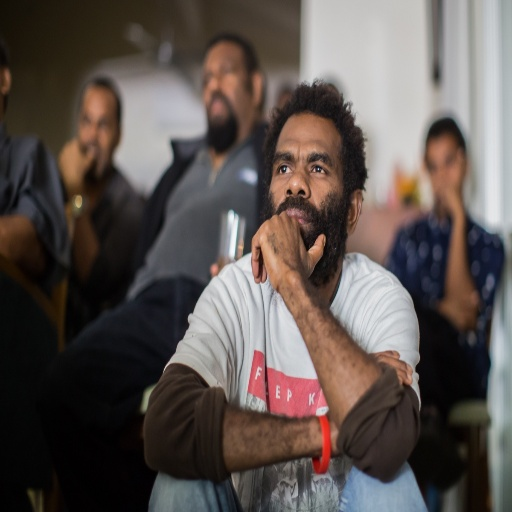hand: (249, 198, 325, 309), (57, 138, 98, 190), (369, 349, 413, 387), (441, 186, 465, 218), (210, 261, 227, 276)
